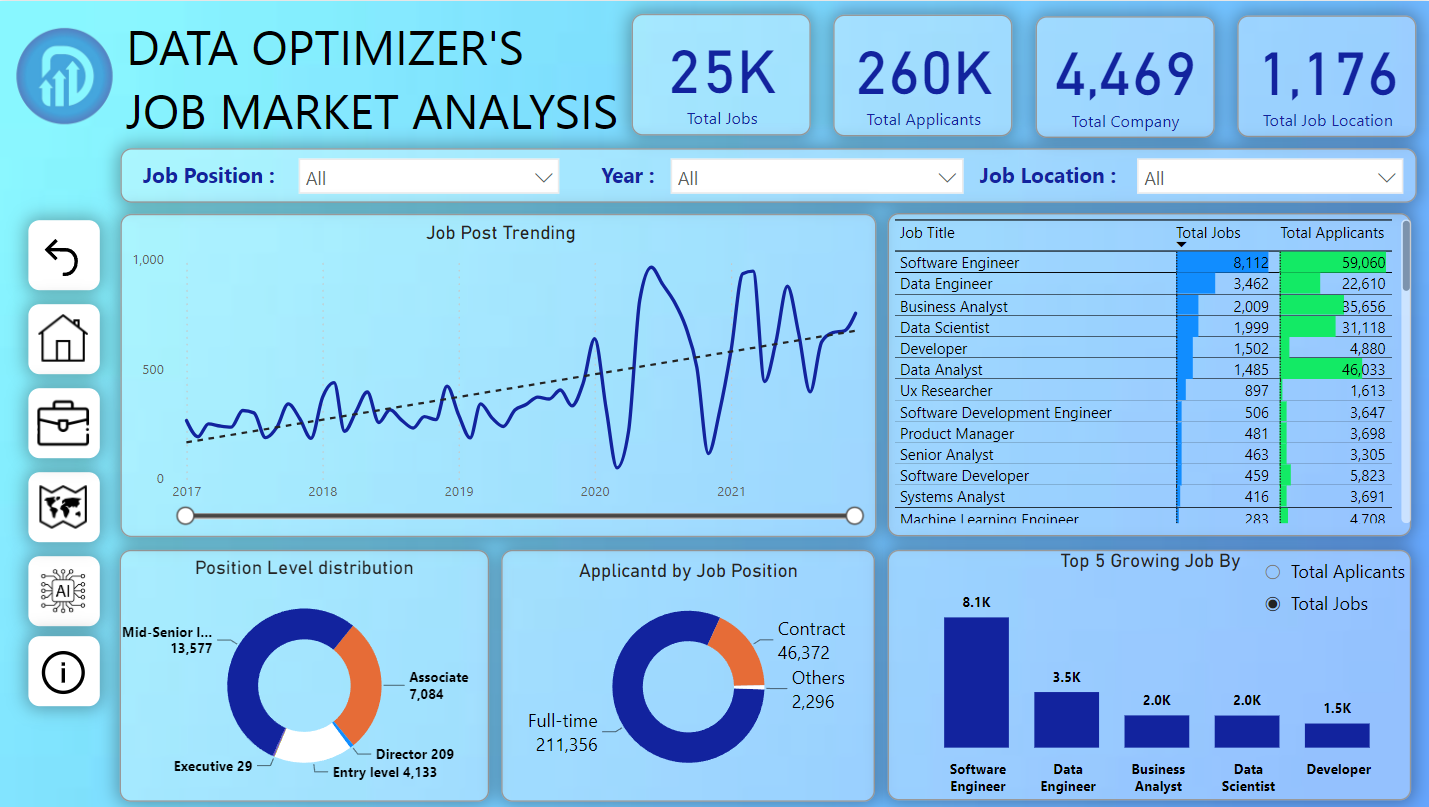

The dashboard page shown, as its layout file describes it:
{"tool":"powerbi","page":{"name":"EXEC DASHBOARD","canvas":[1280,720],"ordinal":0},"visuals":[{"type":"group","id":"g1","title":"Group 1","box":[1106.6,12.7,160.5,108.2],"z":0},{"type":"slicer","fields":{"Values":["job_postings.Job Position Level"]},"box":[258,131,253,50],"z":0,"group":"g14"},{"type":"slicer","fields":{"Values":["job_postings.Year"]},"box":[590,131,281,50],"z":0,"group":"g15"},{"type":"slicer","fields":{"Values":["job_postings.Job Location"]},"box":[1007,131,257,51],"z":0,"group":"g16"},{"type":"group","id":"g2","title":"Group 14","box":[27.3,196,64,363],"z":0,"group":"g10"},{"type":"shape","box":[27.3,495.7,63.8,63],"z":0,"group":"g11"},{"type":"shape","box":[27,567.5,63.6,62.7],"z":0,"group":"g4"},{"type":"group","id":"g3","title":"Group 2","box":[746,12.1,160.5,108.2],"z":1000},{"type":"textbox","box":[124,138,144,37],"z":1000,"group":"g14"},{"type":"textbox","box":[533,138,68,35],"z":1000,"group":"g15"},{"type":"textbox","box":[871,138,169,40],"z":1000,"group":"g16"},{"type":"shape","box":[27.3,420.8,63.8,63],"z":1000,"group":"g12"},{"type":"group","id":"g4","title":"Group 15","box":[27,567.5,63.6,62.7],"z":1000,"group":"g10"},{"type":"actionButton","box":[33.3,574,50,51],"z":1000,"group":"g4"},{"type":"group","id":"g5","title":"Group 3","box":[565.7,11.5,160.5,108.2],"z":2000},{"type":"shape","box":[27.3,345.8,63.8,63],"z":2000,"group":"g17"},{"type":"group","id":"g6","title":"Group 4","box":[926.3,13.3,160.5,108.2],"z":3000},{"type":"shape","box":[27.3,270.9,63.8,63],"z":3000,"group":"g18"},{"type":"image","box":[0,6.2,118.8,122.4],"z":4000},{"type":"shape","box":[27.3,196,63.8,63],"z":4000,"group":"g13"},{"type":"textbox","box":[109,6,492,125],"z":5000},{"type":"shape","box":[109,131.9,1157.3,49.1],"z":6000,"group":"g8"},{"type":"shape","box":[108.7,489.9,330.2,224.5],"z":6000},{"type":"shape","box":[565.7,11.5,160.5,108.2],"z":7000,"group":"g7"},{"type":"shape","box":[926.3,13.3,160.5,108.2],"z":7000,"group":"g6"},{"type":"shape","box":[449.5,489.8,333.6,224.8],"z":7000},{"type":"shape","box":[746,12.1,160.5,108.2],"z":8000,"group":"g3"},{"type":"card","fields":{"Values":["_Measure.Total Company"]},"box":[931.9,14.5,149,106.4],"z":8000,"group":"g6"},{"type":"donutChart","title":"Applicantd by Job Position","fields":{"Category":["job_postings.Job Postition Category"],"Y":["_Measure.Total Aplicants"]},"box":[456.7,497.8,320,208.9],"z":8000},{"type":"shape","box":[1106.6,12.7,160.5,108.2],"z":9000,"group":"g1"},{"type":"shape","box":[794.1,189.6,467.9,288.3],"z":9000},{"type":"tableEx","fields":{"Values":["job_postings.Job Title","_Measure.Total Jobs","_Measure.Total Aplicants"]},"box":[794.5,190,472.7,280.9],"z":10000},{"type":"group","id":"g7","title":"Group 5","box":[565.7,11.5,160.5,108.2],"z":10001,"group":"g5"},{"type":"card","fields":{"Values":["_Measure.Total Jobs"]},"box":[571.9,13.3,149,106.4],"z":11000,"group":"g7"},{"type":"shape","box":[794.5,490.3,467.3,223.4],"z":11000},{"type":"card","fields":{"Values":["_Measure.Total Aplicants"]},"box":[752.2,13.9,149,106.4],"z":12000,"group":"g3"},{"type":"columnChart","title":"Top 5 Growing Job By","fields":{"Y":["_Measure.Total Jobs"],"Category":["job_postings.Job Title"]},"box":[793.6,489.1,470.9,226.4],"z":12000},{"type":"shape","box":[109.1,189.8,674.8,288.2],"z":13000,"group":"g9"},{"type":"slicer","fields":{"Values":["Parameter.Parameter"]},"box":[1117.3,490,150,68.2],"z":13000},{"type":"card","fields":{"Values":["_Measure.Total Job Location"]},"box":[1112.8,14.5,149,106.4],"z":14000,"group":"g1"},{"type":"group","id":"g8","title":"Group 7","box":[109,131,1157.3,51],"z":14000},{"type":"lineChart","title":"Job Post Trending","fields":{"Category":["job_postings.Start of Month"],"Y":["_Measure.Total Jobs"]},"box":[114.4,196,669.5,274.9],"z":14000,"group":"g9"},{"type":"group","id":"g9","title":"Group 8","box":[109.1,189.8,674.8,288.2],"z":15000},{"type":"group","id":"g10","title":"Group 16","box":[27,196,64,435],"z":16000},{"type":"donutChart","title":" Position Level distribution","fields":{"Category":["job_postings.Job Position Level"],"Y":["_Measure.Total Jobs"]},"box":[108.9,495.6,330,211.1],"z":17000},{"type":"group","id":"g11","title":"Group 9","box":[27.3,495.7,63.8,63],"z":17000,"group":"g2"},{"type":"group","id":"g12","title":"Group 10","box":[27.3,420.8,63.8,63],"z":18000,"group":"g2"},{"type":"group","id":"g13","title":"Group 13","box":[27.3,196,63.8,212.8],"z":19000,"group":"g2"},{"type":"actionButton","box":[35.5,207.2,50,44],"z":20000,"group":"g13"},{"type":"actionButton","box":[31.3,350.3,58.2,54.1],"z":21000,"group":"g17"},{"type":"group","id":"g14","title":"Group 6","box":[124,131,387,50],"z":24000,"group":"g8"},{"type":"actionButton","box":[31.5,425.3,58,54],"z":24000,"group":"g12"},{"type":"group","id":"g15","title":"Group 6","box":[533,131,338,50],"z":25000,"group":"g8"},{"type":"actionButton","box":[31.5,275.2,58,54],"z":25000,"group":"g18"},{"type":"group","id":"g16","title":"Group 6","box":[871,131,393,51],"z":26000,"group":"g8"},{"type":"actionButton","box":[31.5,500.2,58,54],"z":26000,"group":"g11"},{"type":"group","id":"g17","title":"Group 11","box":[27.3,345.8,63.8,63],"z":26003,"group":"g18"},{"type":"group","id":"g18","title":"Group 12","box":[27.3,270.9,63.8,137.9],"z":26004,"group":"g13"}]}

Visuals, with their boxes in screenshot pixels (x1, y1, x2, y2), scaled from the page's 1280x720 canvas onto the 1429x807 screenshot:
"Group 1" group: locate(1235, 14, 1415, 136)
slicer - job_postings.Job Position Level: locate(288, 147, 570, 203)
slicer - job_postings.Year: locate(659, 147, 972, 203)
slicer - job_postings.Job Location: locate(1124, 147, 1411, 204)
"Group 14" group: locate(30, 220, 102, 627)
shape: locate(30, 556, 102, 626)
shape: locate(30, 636, 101, 706)
"Group 2" group: locate(833, 14, 1012, 135)
textbox: locate(138, 155, 299, 196)
textbox: locate(595, 155, 671, 194)
textbox: locate(972, 155, 1161, 200)
shape: locate(30, 472, 102, 542)
"Group 15" group: locate(30, 636, 101, 706)
actionButton: locate(37, 643, 93, 701)
"Group 3" group: locate(632, 13, 811, 134)
shape: locate(30, 388, 102, 458)
"Group 4" group: locate(1034, 15, 1213, 136)
shape: locate(30, 304, 102, 374)
image: locate(0, 7, 133, 144)
shape: locate(30, 220, 102, 290)
textbox: locate(122, 7, 671, 147)
shape: locate(122, 148, 1414, 203)
shape: locate(121, 549, 490, 801)
shape: locate(632, 13, 811, 134)
shape: locate(1034, 15, 1213, 136)
shape: locate(502, 549, 874, 801)
shape: locate(833, 14, 1012, 135)
card - _Measure.Total Company: locate(1040, 16, 1207, 136)
"Applicantd by Job Position" donutChart: locate(510, 558, 867, 792)
shape: locate(1235, 14, 1415, 136)
shape: locate(887, 213, 1409, 536)
tableEx - job_postings.Job Title x _Measure.Total Jobs: locate(887, 213, 1415, 528)
"Group 5" group: locate(632, 13, 811, 134)
card - _Measure.Total Jobs: locate(638, 15, 805, 134)
shape: locate(887, 550, 1409, 800)
card - _Measure.Total Aplicants: locate(840, 16, 1006, 135)
"Top 5 Growing Job By" columnChart: locate(886, 548, 1412, 802)
shape: locate(122, 213, 875, 536)
slicer - Parameter.Parameter: locate(1247, 549, 1415, 626)
card - _Measure.Total Job Location: locate(1242, 16, 1409, 136)
"Group 7" group: locate(122, 147, 1414, 204)
"Job Post Trending" lineChart: locate(128, 220, 875, 528)
"Group 8" group: locate(122, 213, 875, 536)
"Group 16" group: locate(30, 220, 102, 707)
" Position Level distribution" donutChart: locate(122, 555, 490, 792)
"Group 9" group: locate(30, 556, 102, 626)
"Group 10" group: locate(30, 472, 102, 542)
"Group 13" group: locate(30, 220, 102, 458)
actionButton: locate(40, 232, 95, 282)
actionButton: locate(35, 393, 100, 453)
"Group 6" group: locate(138, 147, 570, 203)
actionButton: locate(35, 477, 100, 537)
"Group 6" group: locate(595, 147, 972, 203)
actionButton: locate(35, 308, 100, 369)
"Group 6" group: locate(972, 147, 1411, 204)
actionButton: locate(35, 561, 100, 621)
"Group 11" group: locate(30, 388, 102, 458)
"Group 12" group: locate(30, 304, 102, 458)
